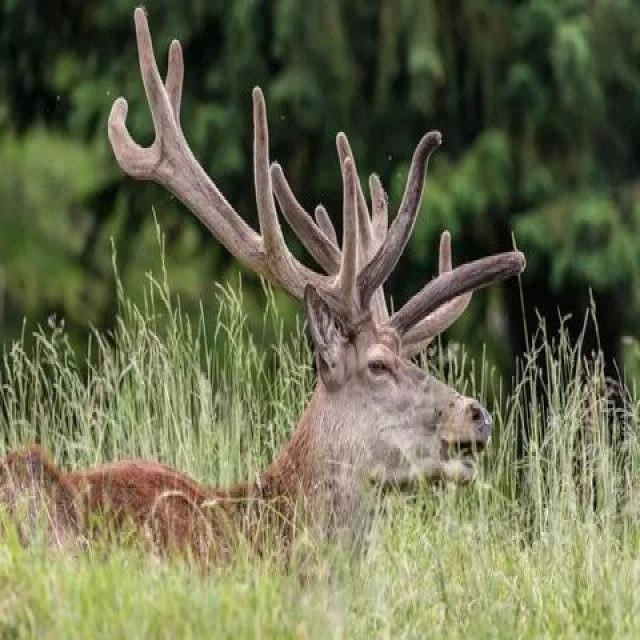deer: (132, 98, 486, 577)
